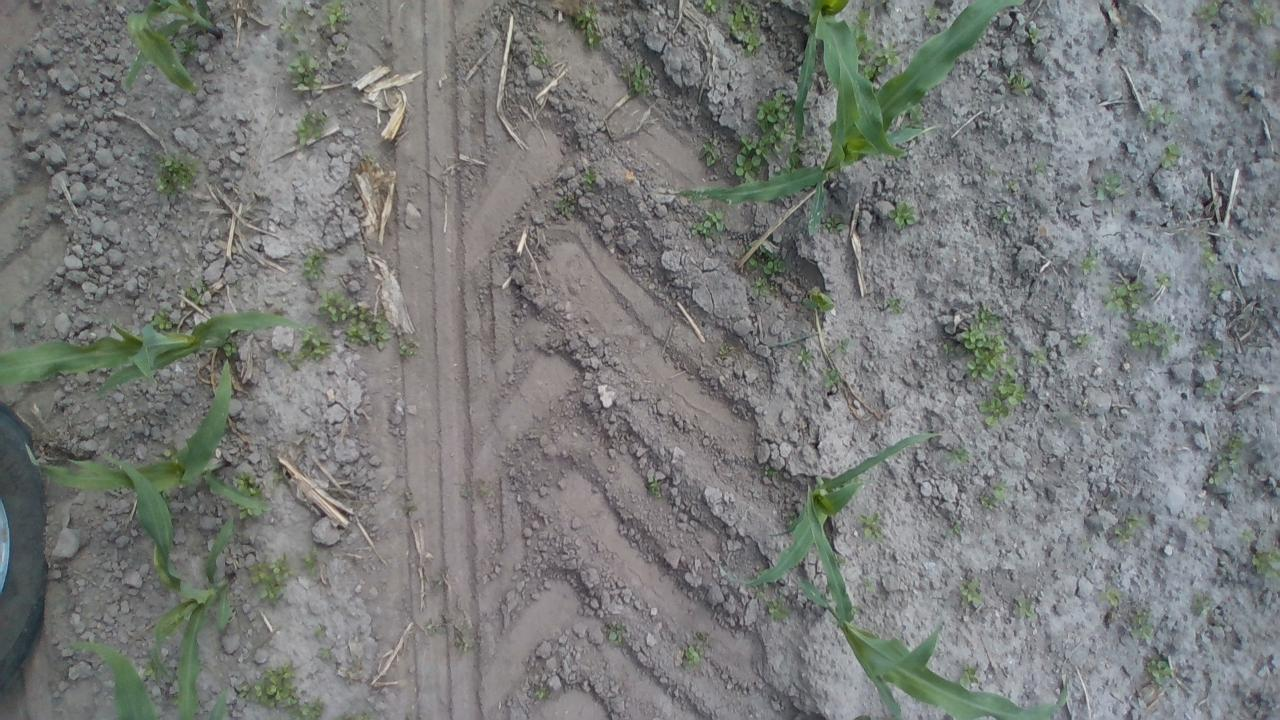Maize: (678, 0, 1026, 205), (795, 483, 1072, 720), (97, 449, 233, 720), (24, 367, 267, 514), (740, 434, 939, 587), (0, 312, 309, 397), (797, 0, 910, 158), (64, 635, 228, 720), (122, 0, 220, 92)
Weeds: (957, 304, 1026, 428), (729, 89, 800, 184), (236, 657, 320, 720), (740, 241, 790, 298), (248, 554, 297, 610), (1122, 320, 1182, 361), (346, 302, 393, 350), (155, 151, 201, 199), (727, 3, 764, 57), (1208, 432, 1245, 485), (858, 40, 902, 82), (286, 50, 324, 91), (295, 324, 330, 368), (568, 2, 600, 50), (1102, 280, 1148, 312), (318, 288, 358, 321), (688, 208, 728, 240), (850, 4, 874, 56), (296, 110, 326, 145), (526, 29, 554, 66), (231, 471, 265, 500), (626, 62, 654, 96), (1096, 168, 1124, 201), (801, 286, 835, 313), (1145, 103, 1175, 132), (1248, 0, 1276, 31), (1114, 515, 1145, 543), (888, 200, 917, 229), (172, 34, 202, 62), (1254, 549, 1280, 581), (959, 575, 984, 608), (1146, 655, 1172, 685), (978, 484, 1005, 512), (326, 0, 354, 26), (860, 511, 884, 541), (184, 278, 207, 305), (901, 101, 924, 128), (1099, 587, 1127, 609), (1136, 608, 1154, 642), (1006, 72, 1031, 96), (304, 250, 322, 282), (1198, 0, 1222, 24), (1016, 598, 1040, 622), (766, 599, 790, 622), (1199, 240, 1217, 270), (338, 706, 376, 720), (150, 311, 174, 333), (682, 646, 706, 668), (821, 215, 848, 234), (278, 1, 294, 33), (304, 546, 320, 578), (1159, 144, 1180, 168), (945, 445, 970, 465), (554, 196, 578, 216), (960, 663, 978, 689), (820, 366, 841, 388), (154, 444, 178, 463), (701, 141, 717, 169), (1030, 346, 1052, 366), (796, 348, 816, 370), (924, 5, 944, 25), (1193, 596, 1212, 616), (238, 506, 264, 520), (1206, 280, 1226, 298), (1200, 340, 1218, 360), (784, 511, 800, 533), (141, 662, 158, 682), (1267, 47, 1280, 73), (1080, 256, 1098, 274), (886, 296, 904, 314), (811, 136, 828, 154), (224, 337, 238, 358), (1154, 273, 1172, 289), (1191, 514, 1209, 530), (702, 0, 722, 14), (1031, 160, 1047, 177), (647, 477, 661, 496), (996, 208, 1012, 224), (608, 624, 624, 640), (1026, 26, 1040, 44), (1239, 528, 1257, 542), (580, 167, 594, 185), (1071, 336, 1096, 346), (400, 344, 416, 359), (753, 582, 769, 597), (187, 79, 201, 96), (1206, 378, 1220, 394), (174, 472, 187, 489), (836, 336, 849, 352), (335, 41, 353, 52), (834, 552, 846, 568), (276, 349, 290, 362), (319, 646, 332, 659), (311, 626, 323, 639), (764, 466, 777, 478), (1008, 179, 1019, 192), (534, 687, 544, 698), (952, 524, 962, 534), (944, 344, 954, 354), (719, 344, 729, 354), (850, 606, 859, 616)
